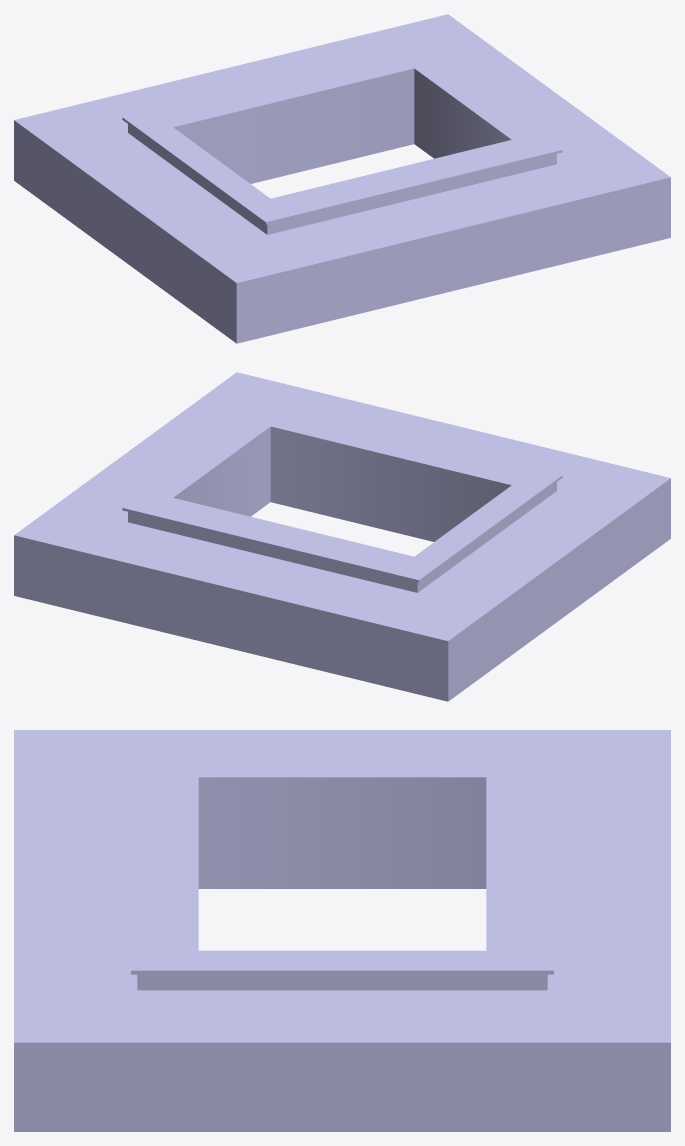
File: Bath_3_5x5.FBX
3 views of the same model, one above another, from view 1: azimuth 30°, elevation 25°; view 2: azimuth 150°, elevation 25°; view 3: azimuth 270°, elevation 25° (orthographic). The views are drawn at different scales.
Visible parts, largest first — view 1: Bath; view 2: Bath; view 3: Bath.
Boxes of the visible parts, left/top/right/bottom form: Bath: left=14, top=14, right=670, bottom=343; Bath: left=14, top=372, right=670, bottom=701; Bath: left=14, top=730, right=670, bottom=1131.
Bounding box in the file's own units: 9000 × 8000 × 1500.
